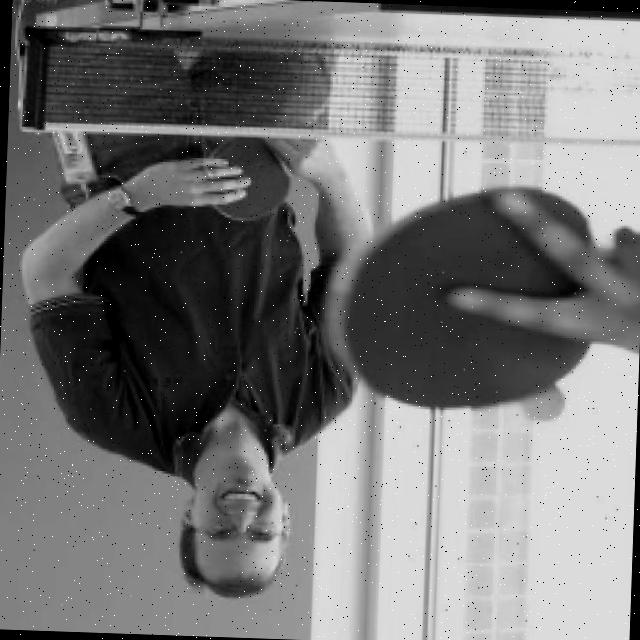ping-pong-ball: (519, 382, 566, 424)
